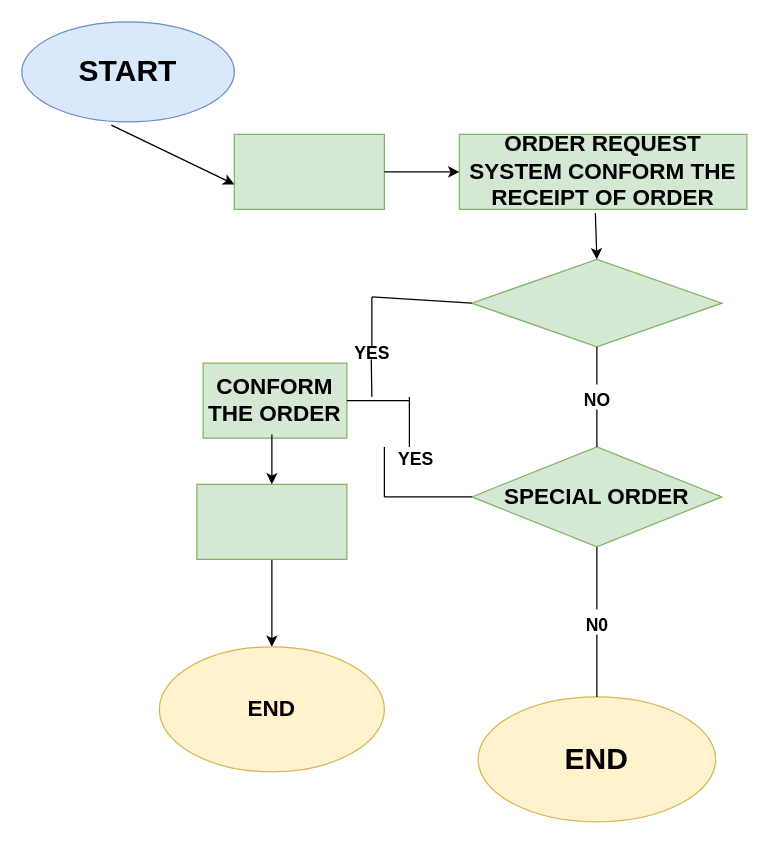
Some shapes in this 769 by 844 pixel diagram are drawn without their labels. Here are the shapes that lost their labels. From the top down, the centre of each, then its label:
At [308,171]: "CUSTOMER PLACE ORDER".
At [596,302]: "NORMAL ORDER".
At [271,521]: "DISPATCH THE ORDER".
